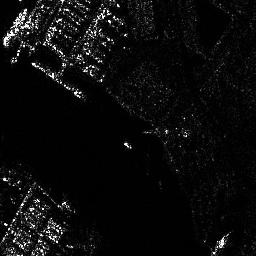ship: (3, 6, 27, 45)
